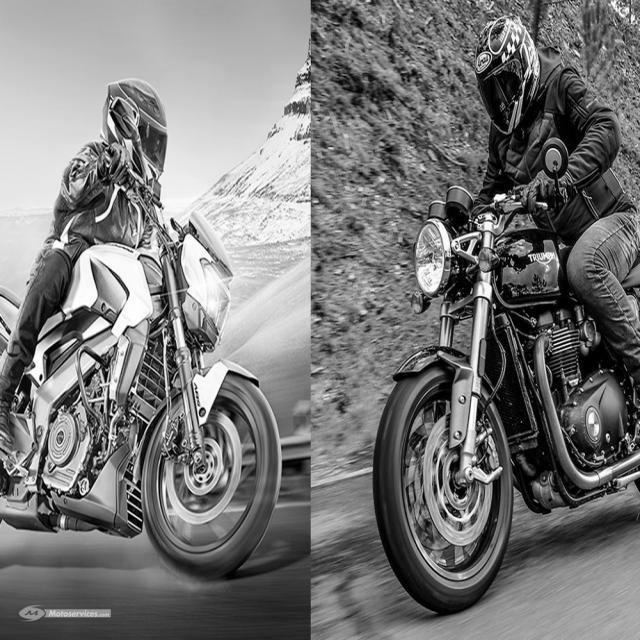Motorbike: (374, 18, 640, 616), (0, 81, 281, 578)
